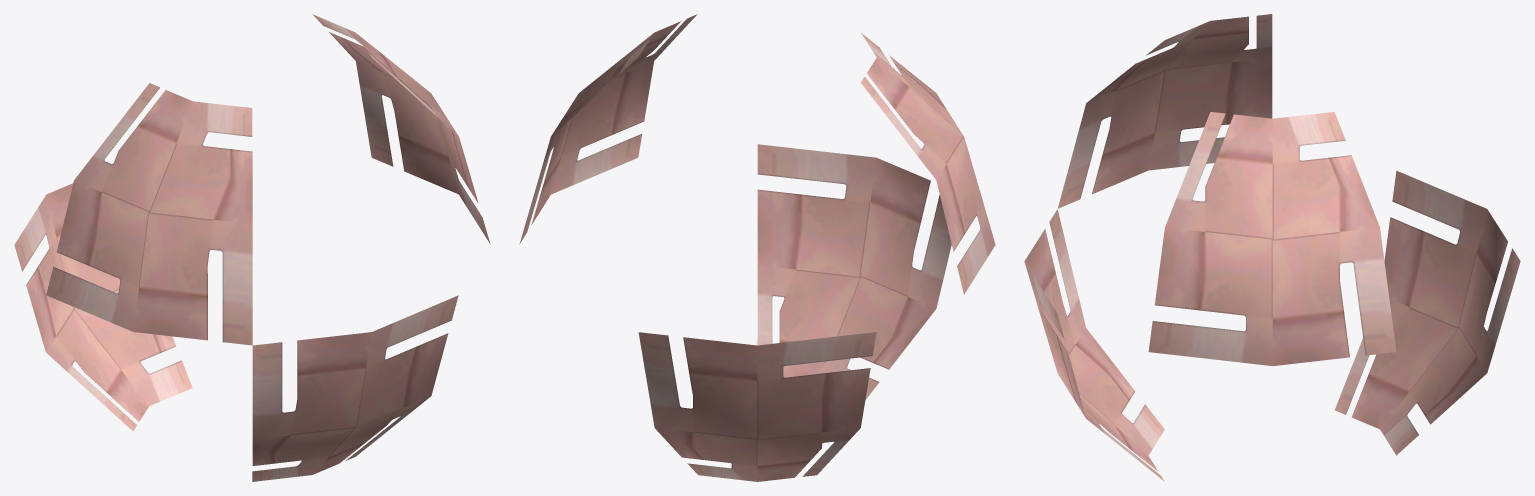
The picture shows the model from 3 angles, left to right: view 1: azimuth 30°, elevation 25°; view 2: azimuth 150°, elevation 25°; view 3: azimuth 270°, elevation 25°; orthographic projection. The views are drawn at different scales.
Visible parts, largest first — view 1: T1L6M003_9; view 2: T1L6M003_9; view 3: T1L6M003_9.
Boxes of the visible parts, <box> form: T1L6M003_9: <box>14,14,490,481</box>; T1L6M003_9: <box>519,14,995,481</box>; T1L6M003_9: <box>1024,14,1520,481</box>.
Size of the model in its own units: 0.7998 by 0.6924 by 0.7998.
